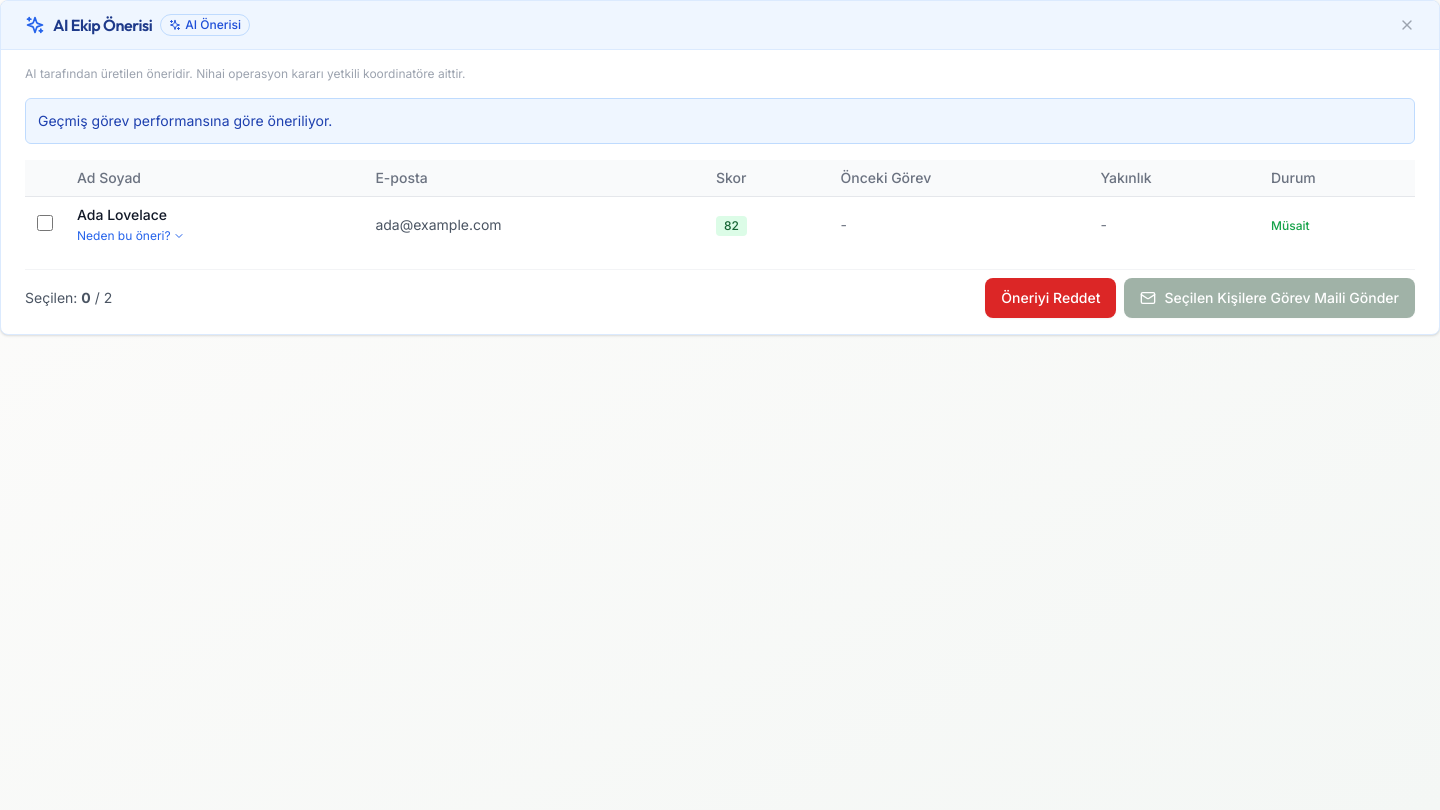
it: EventAiRecommendationPanel › reveals real backend-provided reasons behind "Neden bu öneri?"
The image size is (1440, 810).
Expected: the text "Olay yerine mesafe" is not shown
Click the button "Neden bu öneri?" at (131, 236), box [77, 228, 185, 244]
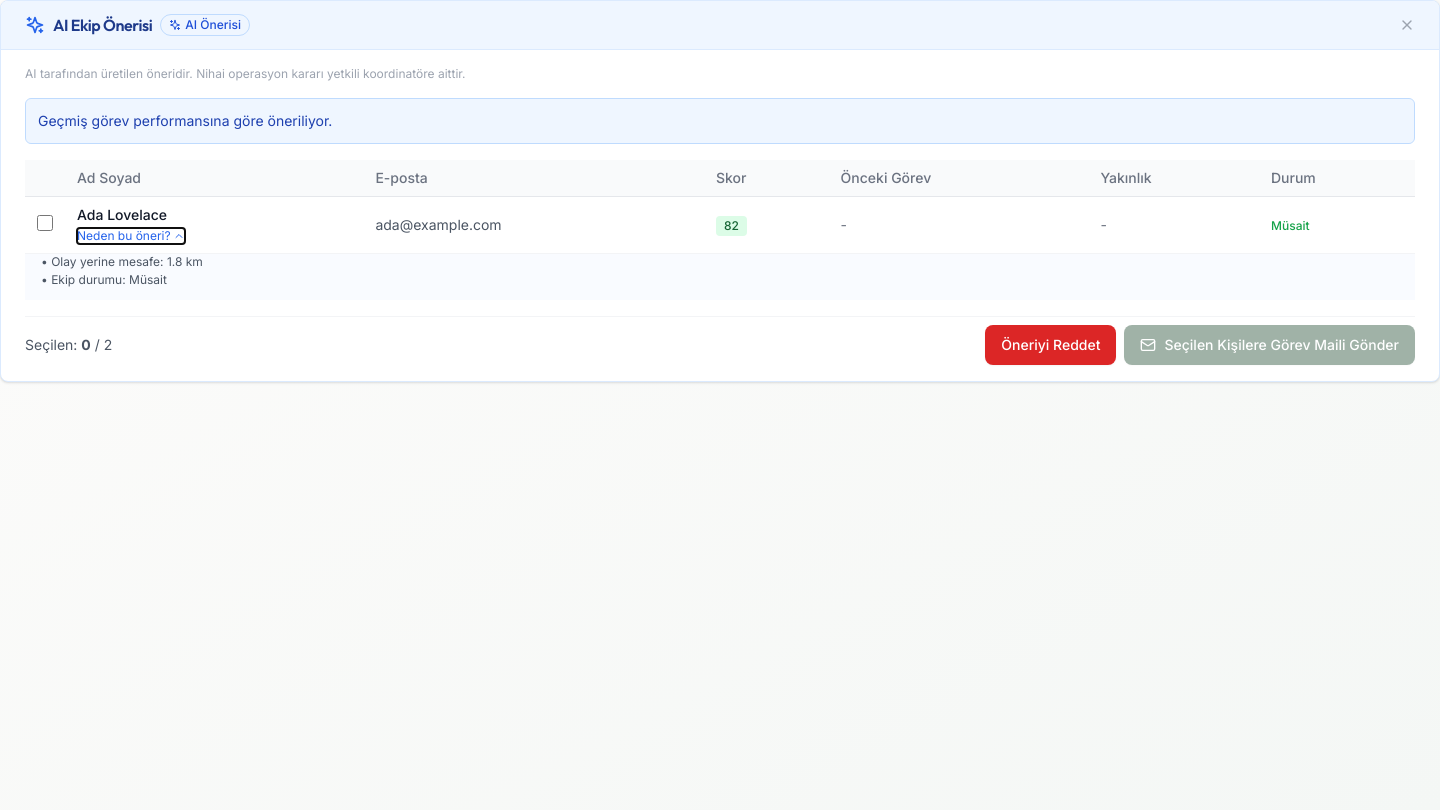
Result: the list item "• Olay yerine mesafe: 1.8 km" is shown at [41, 254, 203, 269]
Result: the list item "• Ekip durumu: Müsait" is shown at [41, 272, 167, 287]
